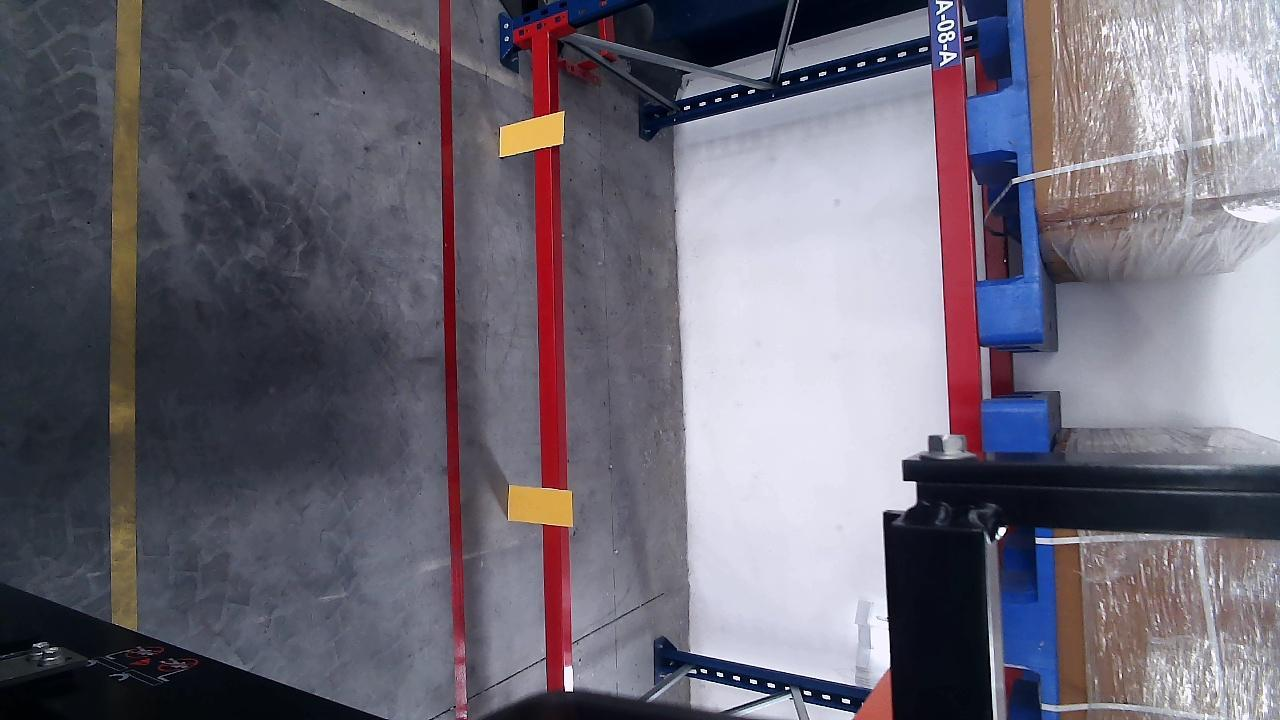h_rack: (925, 2, 986, 460), (529, 31, 570, 690)
orange_strip: (499, 111, 564, 155), (508, 483, 572, 527)
red_line: (435, 0, 473, 719)
small_pallet: (956, 1, 1050, 339)
yellow_line: (112, 0, 144, 628)
